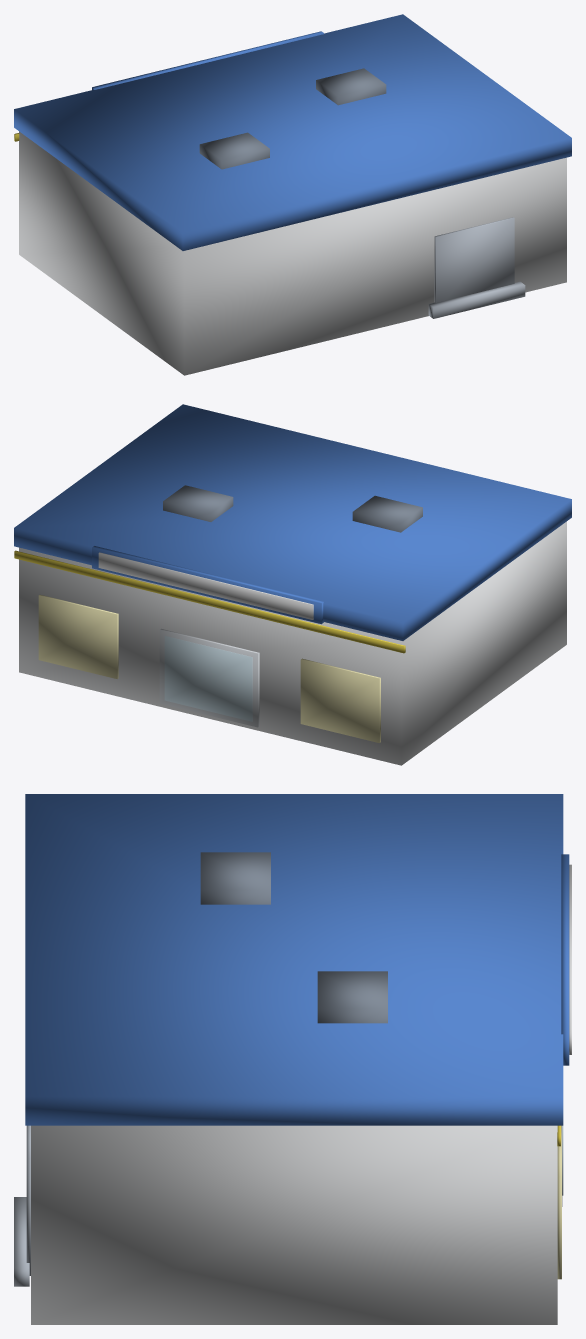
Rendered from discount-store.glb.
The picture shows the model from 3 angles, top to bottom: view 1: azimuth 30°, elevation 25°; view 2: azimuth 150°, elevation 25°; view 3: azimuth 270°, elevation 25°; orthographic projection. The views are drawn at different scales.
Parts seen in each view (by area): view 1: world; view 2: world; view 3: world.
Boxes of the visible parts, x1,y1,x2,y2 form: world: (14,14,571,375); world: (14,404,571,765); world: (14,794,571,1324).
Size of the model in its own units: 18 by 6.8 by 14.
